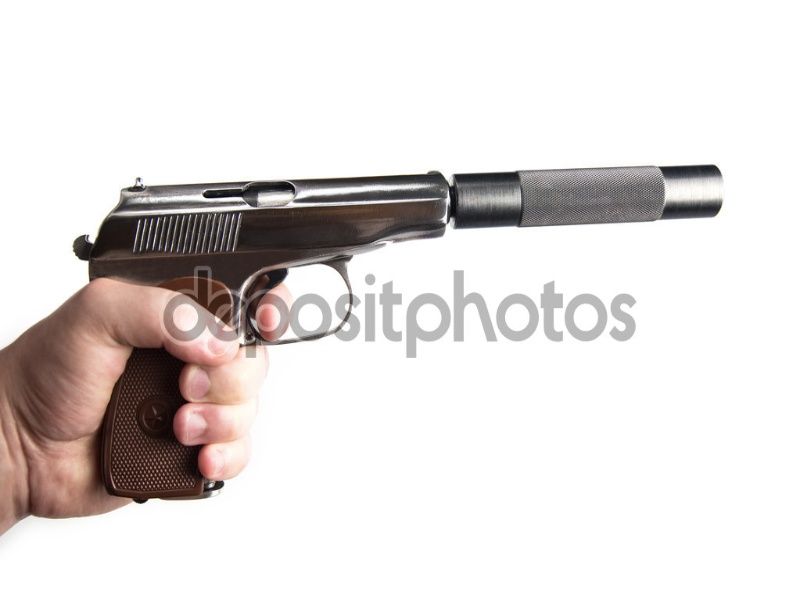gun: (42, 121, 743, 522)
